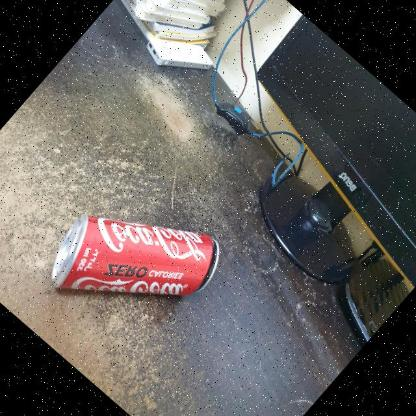Can: (48, 211, 221, 305)
